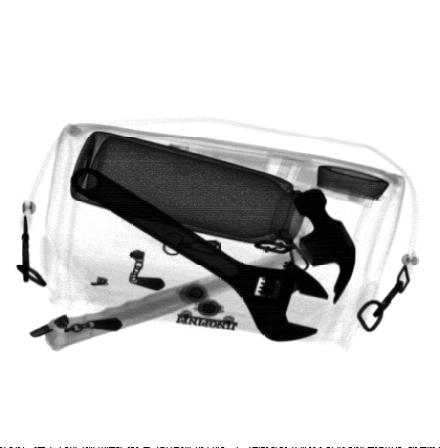Hammer: (44, 189, 357, 353)
Wrench: (69, 166, 331, 343)
